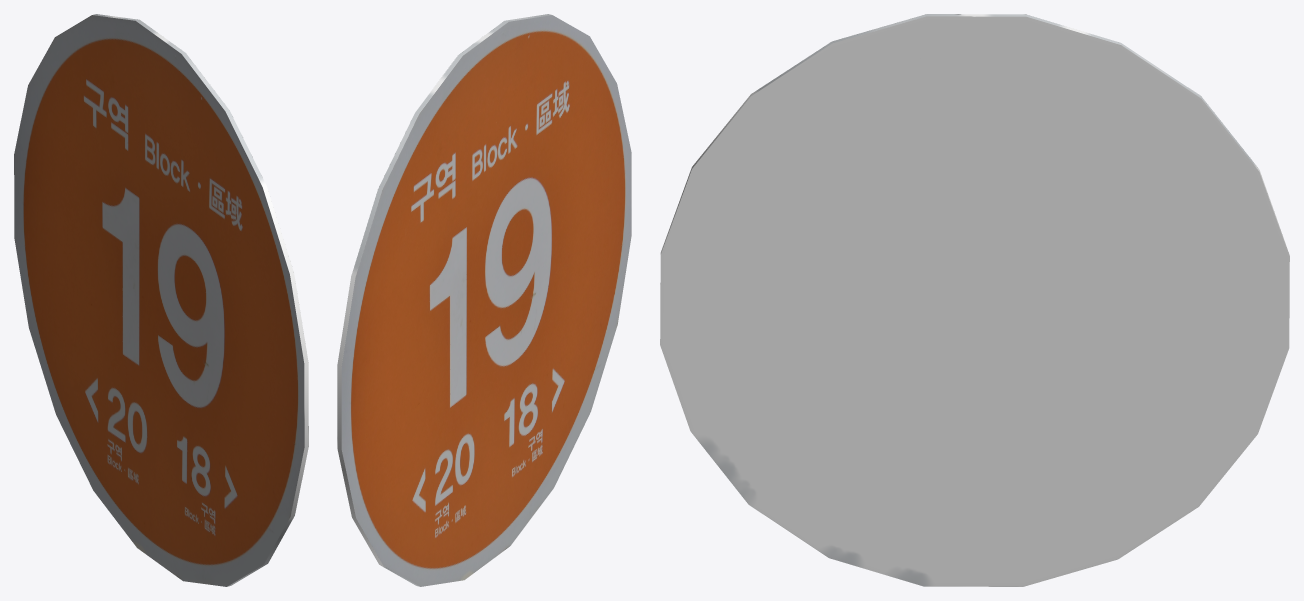
File: SM_018_Seat_10_2.fbx
The picture shows the model from 3 angles, left to right: view 1: azimuth 30°, elevation 25°; view 2: azimuth 150°, elevation 25°; view 3: azimuth 270°, elevation 25°; orthographic projection. The views are drawn at different scales.
Visible parts, largest first — view 1: SM_018_Seat_10_2; view 2: SM_018_Seat_10_2; view 3: SM_018_Seat_10_2.
Part boxes in pixels (box(x1,y1,x2,y2)): SM_018_Seat_10_2: box(14, 14, 308, 586); SM_018_Seat_10_2: box(337, 14, 631, 586); SM_018_Seat_10_2: box(660, 14, 1289, 586).
Size of the model in its own units: 0.3841 by 44.73 by 44.73.
1 material, 1 textured.
